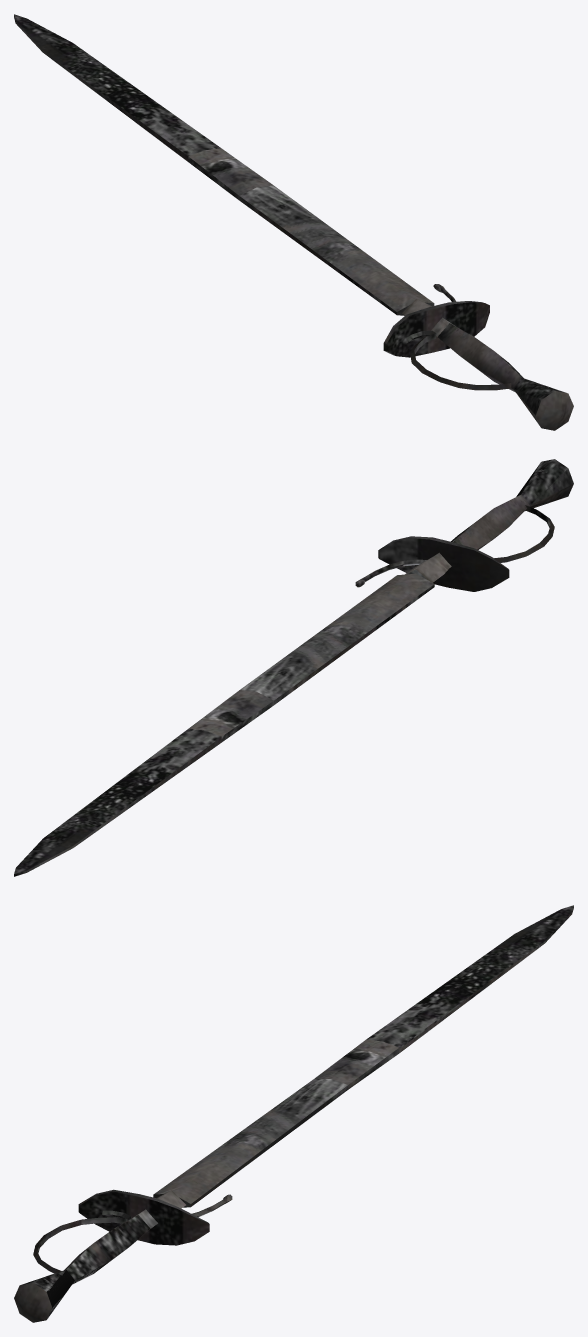
3 renders of one model, top to bottom at view 1: azimuth 30°, elevation 25°; view 2: azimuth 150°, elevation 25°; view 3: azimuth 330°, elevation 25°, orthographic.
Parts seen in each view (by area): view 1: mesh_0; view 2: mesh_0; view 3: mesh_0.
Part boxes in pixels (x1,y1,x2,y2): mesh_0: (14, 14, 573, 430); mesh_0: (14, 459, 573, 876); mesh_0: (14, 905, 573, 1322).
Size of the model in its own units: 5.25 by 1.85 by 41.8.
Materials: 1 (1 with a texture image).
